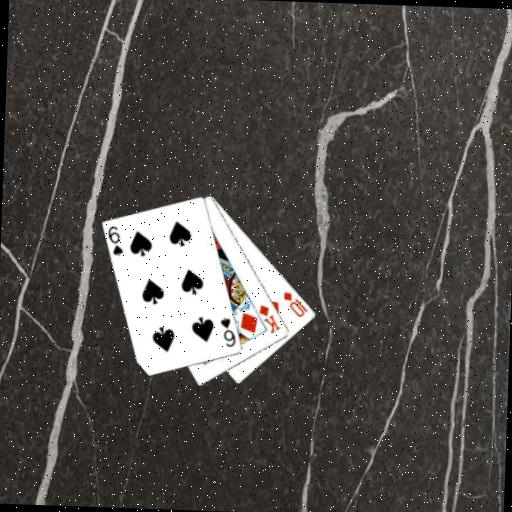10D: (280, 289, 310, 319)
6S: (217, 314, 238, 349), (104, 222, 125, 257)
KD: (255, 301, 283, 335)
